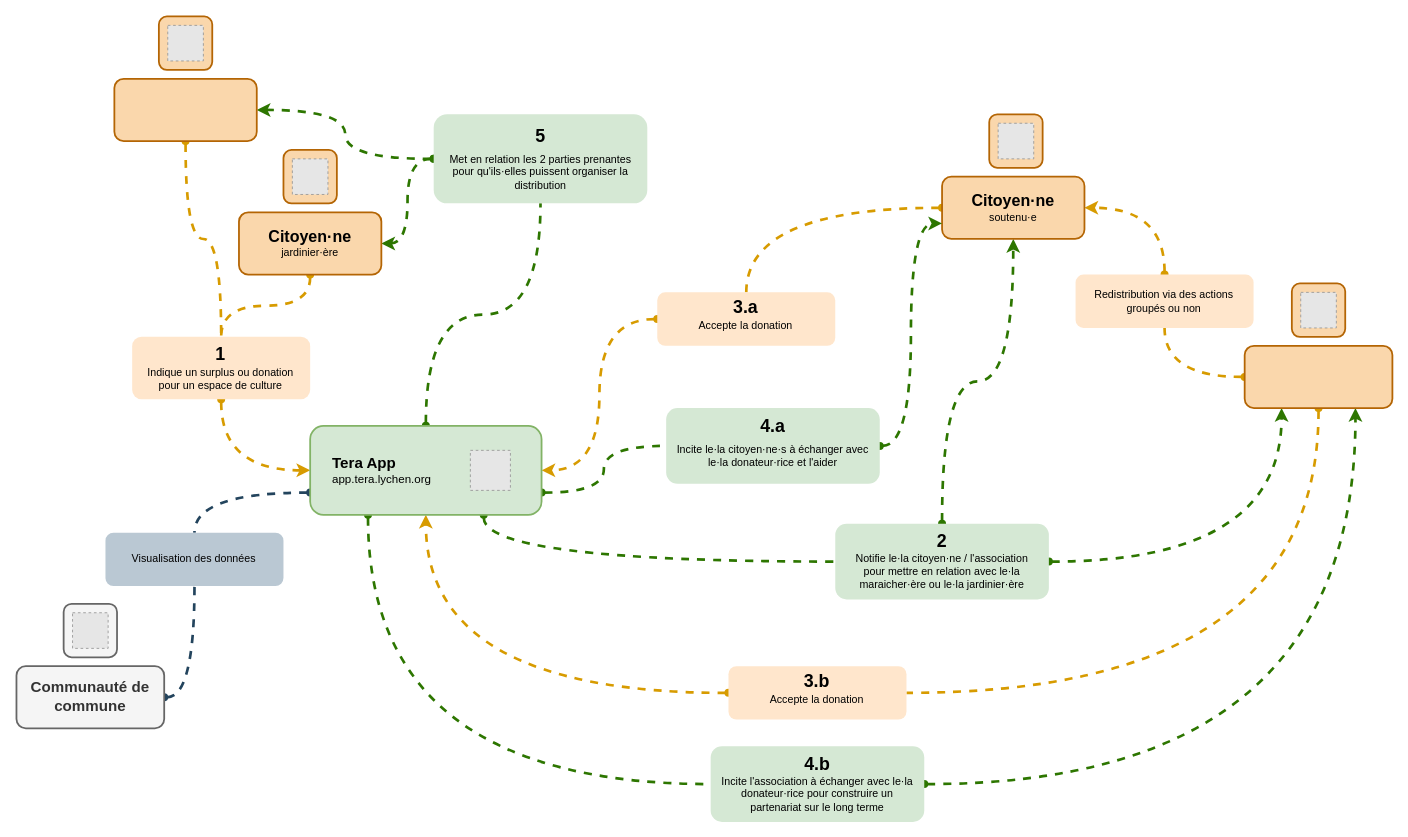
Some shapes in this 1408 by 837 pixel diagram are drawn without their labels. Grey dashed boxes stand in for pictures. The shapes that lost their labels are listed below. From the top down, each one's centre as x and y in pixels, then its label:
point 185,109: Maraîcher·ère
point 1318,376: Association
